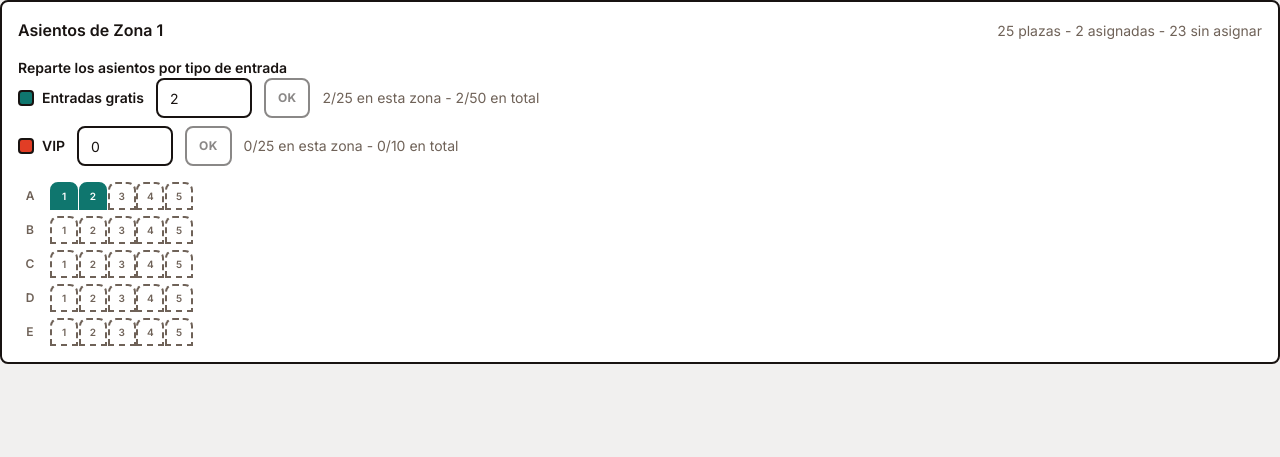
ZoneSeatEditor › selecting seats › clears the ticket type from every selected seat
The width and height of the screenshot is (1280, 457).
Click the button named "Asiento A1 Entradas gratis": (64, 196) [50,182,78,210]
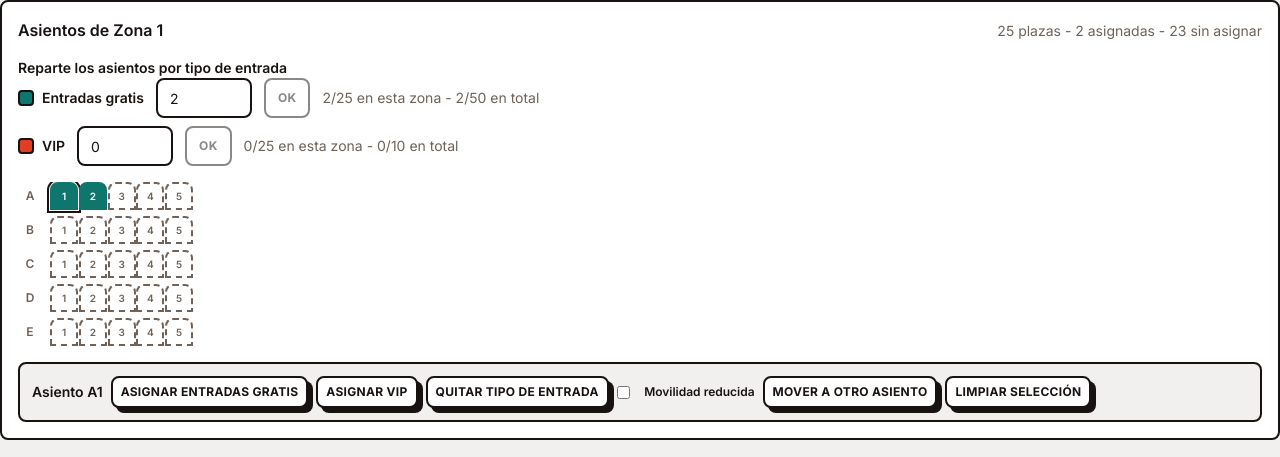
Click the 1st button "2": (93, 196) [79,182,107,210]
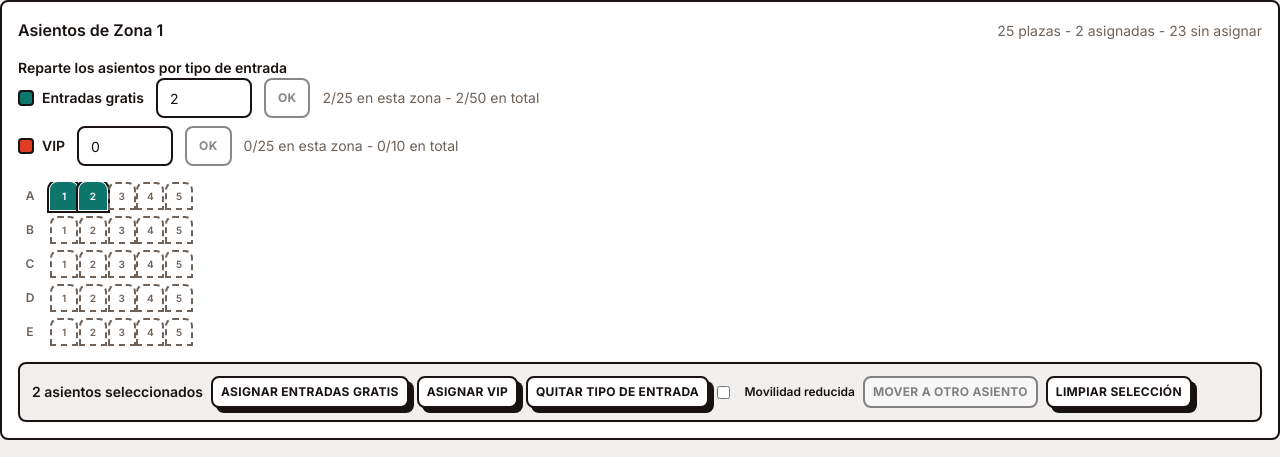
Click the button "Quitar tipo de entrada": (618, 392) [526,376,709,408]
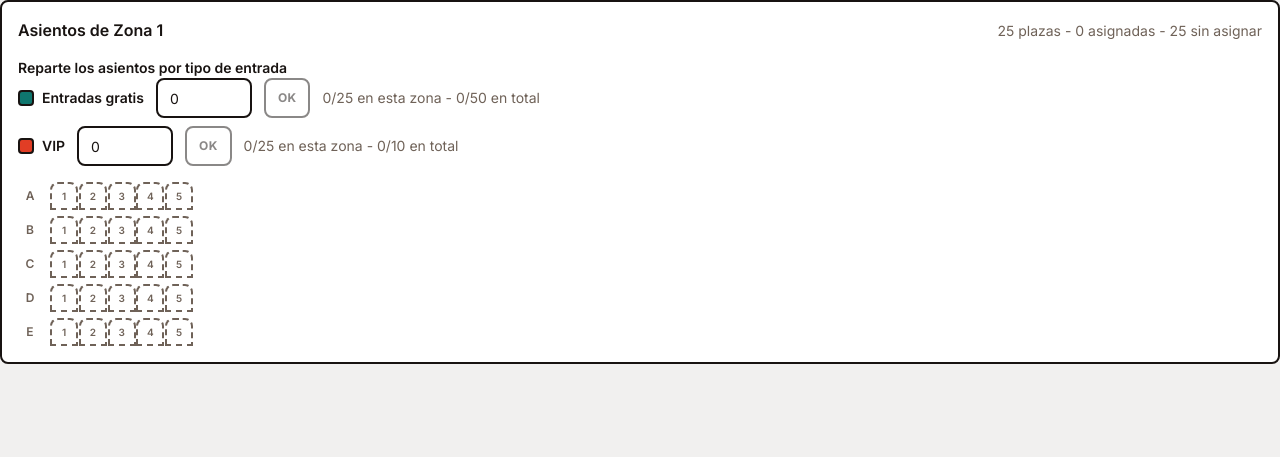
Check: the button named "Asiento A1 sin asignar" is shown, box [50,182,78,210]
